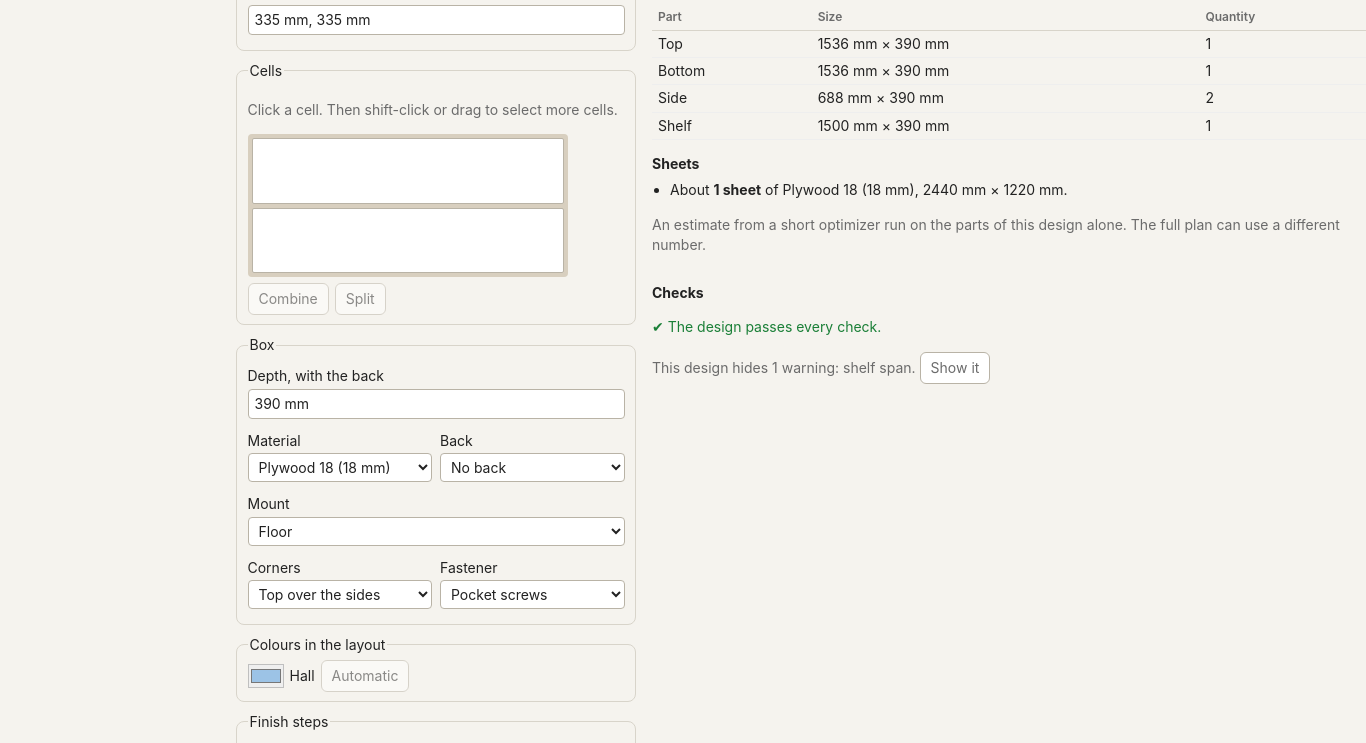
Scenario: DesignTab › shows the hidden warnings and shows them again
This screenshot has width=1366, height=743.
(page scrolled)
Expected: the text "This design hides 1 warning: shelf span." is shown, [652,352,990,384]
Click the button "Show it".
click(955, 368)  # box [920,352,990,384]
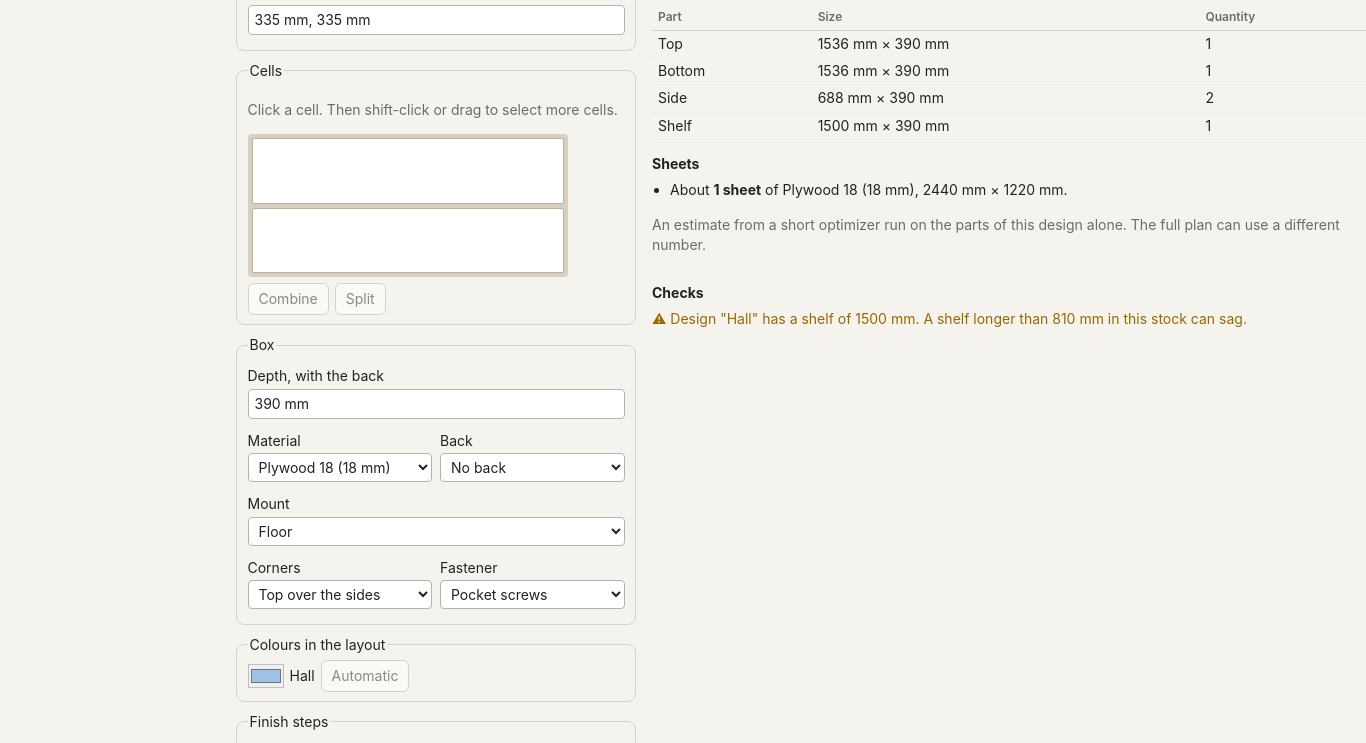
Expected: the text "This design hides" is gone
Expected: the list item "can sag" is shown, [670,310,1247,327]
